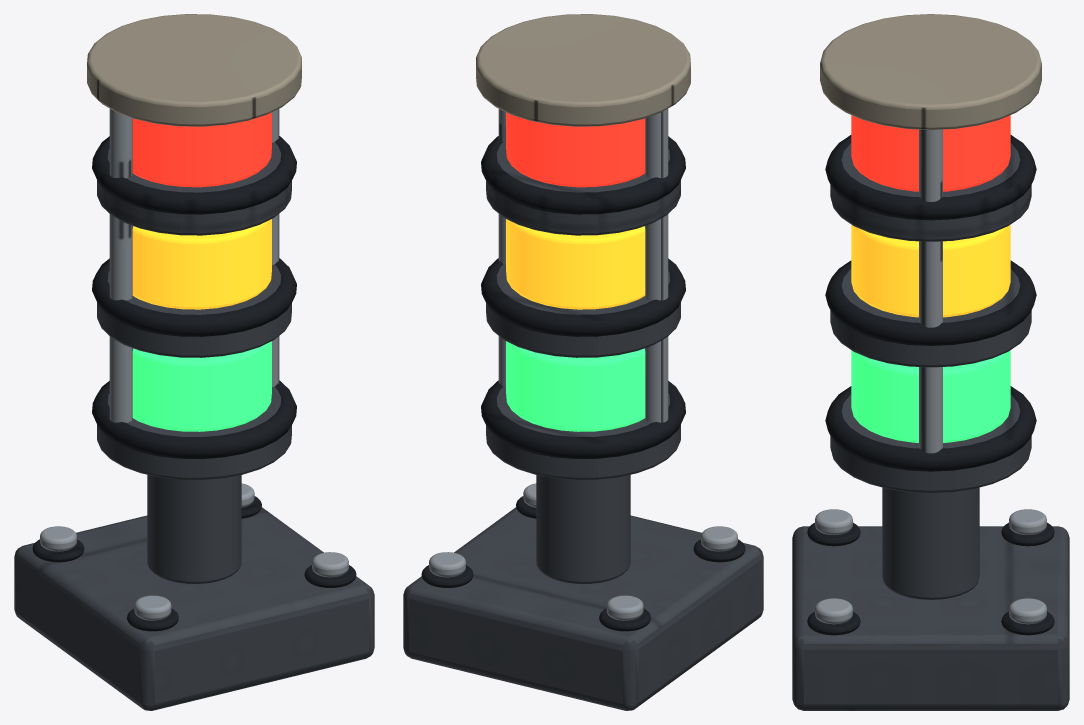
File: ops_status_signal_housing_lod0.glb
3 renders of one model, left to right at view 1: azimuth 30°, elevation 25°; view 2: azimuth 150°, elevation 25°; view 3: azimuth 270°, elevation 25°, orthographic. The views are drawn at different scales.
Parts seen in each view (by area): view 1: LOD0_Mechanical, LOD0_Hull, LOD0_MechanicalDark, LOD0_HOOK_NAV_STARBOARD, LOD0_Beacon_Amber, LOD0_BrushedMetal, LOD0_HOOK_NAV_PORT; view 2: LOD0_Mechanical, LOD0_Hull, LOD0_MechanicalDark, LOD0_HOOK_NAV_STARBOARD, LOD0_Beacon_Amber, LOD0_BrushedMetal, LOD0_HOOK_NAV_PORT; view 3: LOD0_Mechanical, LOD0_Hull, LOD0_MechanicalDark, LOD0_HOOK_NAV_STARBOARD, LOD0_Beacon_Amber, LOD0_BrushedMetal, LOD0_HOOK_NAV_PORT.
Boxes of the visible parts, x1,y1,x2,y2 form: LOD0_Mechanical: [14, 142, 374, 710]; LOD0_Hull: [87, 14, 301, 126]; LOD0_MechanicalDark: [32, 136, 356, 631]; LOD0_HOOK_NAV_STARBOARD: [132, 341, 271, 431]; LOD0_Beacon_Amber: [132, 219, 271, 309]; LOD0_BrushedMetal: [40, 109, 348, 620]; LOD0_HOOK_NAV_PORT: [132, 112, 271, 187]; LOD0_Mechanical: [403, 142, 763, 710]; LOD0_Hull: [476, 14, 690, 126]; LOD0_MechanicalDark: [421, 136, 745, 631]; LOD0_HOOK_NAV_STARBOARD: [506, 341, 645, 431]; LOD0_Beacon_Amber: [506, 219, 645, 309]; LOD0_BrushedMetal: [429, 109, 737, 620]; LOD0_HOOK_NAV_PORT: [506, 112, 645, 187]; LOD0_Mechanical: [792, 143, 1069, 710]; LOD0_Hull: [820, 14, 1041, 129]; LOD0_MechanicalDark: [807, 135, 1054, 635]; LOD0_HOOK_NAV_STARBOARD: [851, 350, 1010, 442]; LOD0_Beacon_Amber: [851, 224, 1010, 317]; LOD0_BrushedMetal: [815, 129, 1046, 624]; LOD0_HOOK_NAV_PORT: [851, 115, 1010, 191].
Bounding box in the file's own units: 0.8 × 1.9 × 0.8.
7 materials, 4 textured.
